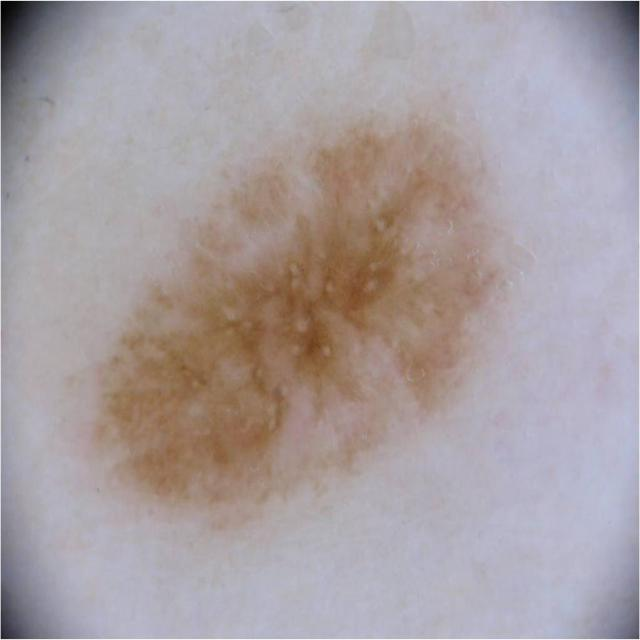Benign: (94, 115, 528, 536)
